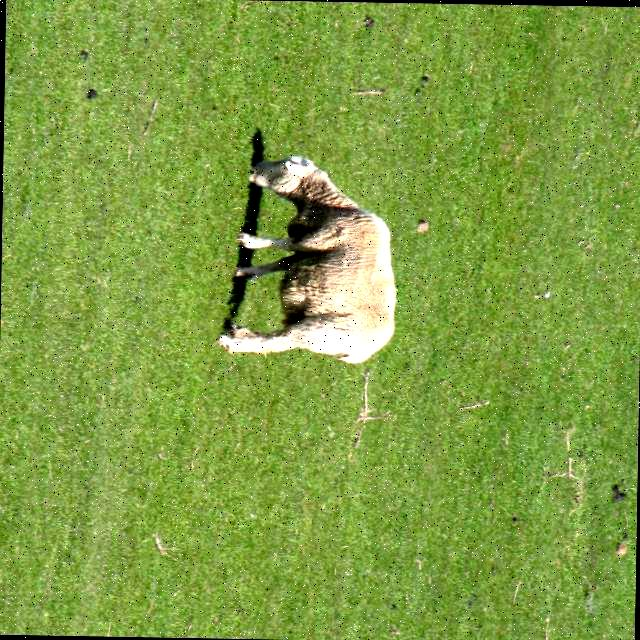sheep: (220, 154, 398, 361)
